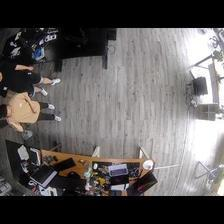normal: (1, 94, 61, 132), (1, 59, 58, 94)
